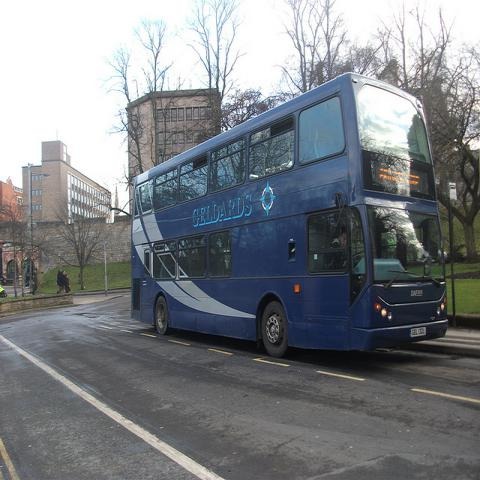bus: (125, 70, 457, 353)
